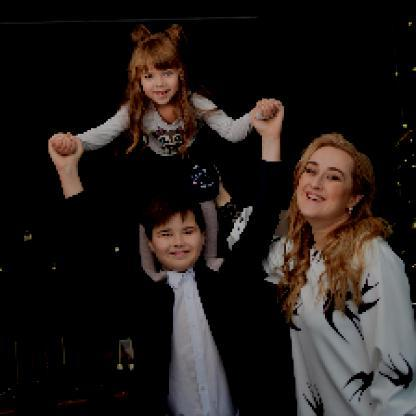child: (51, 22, 282, 286)
